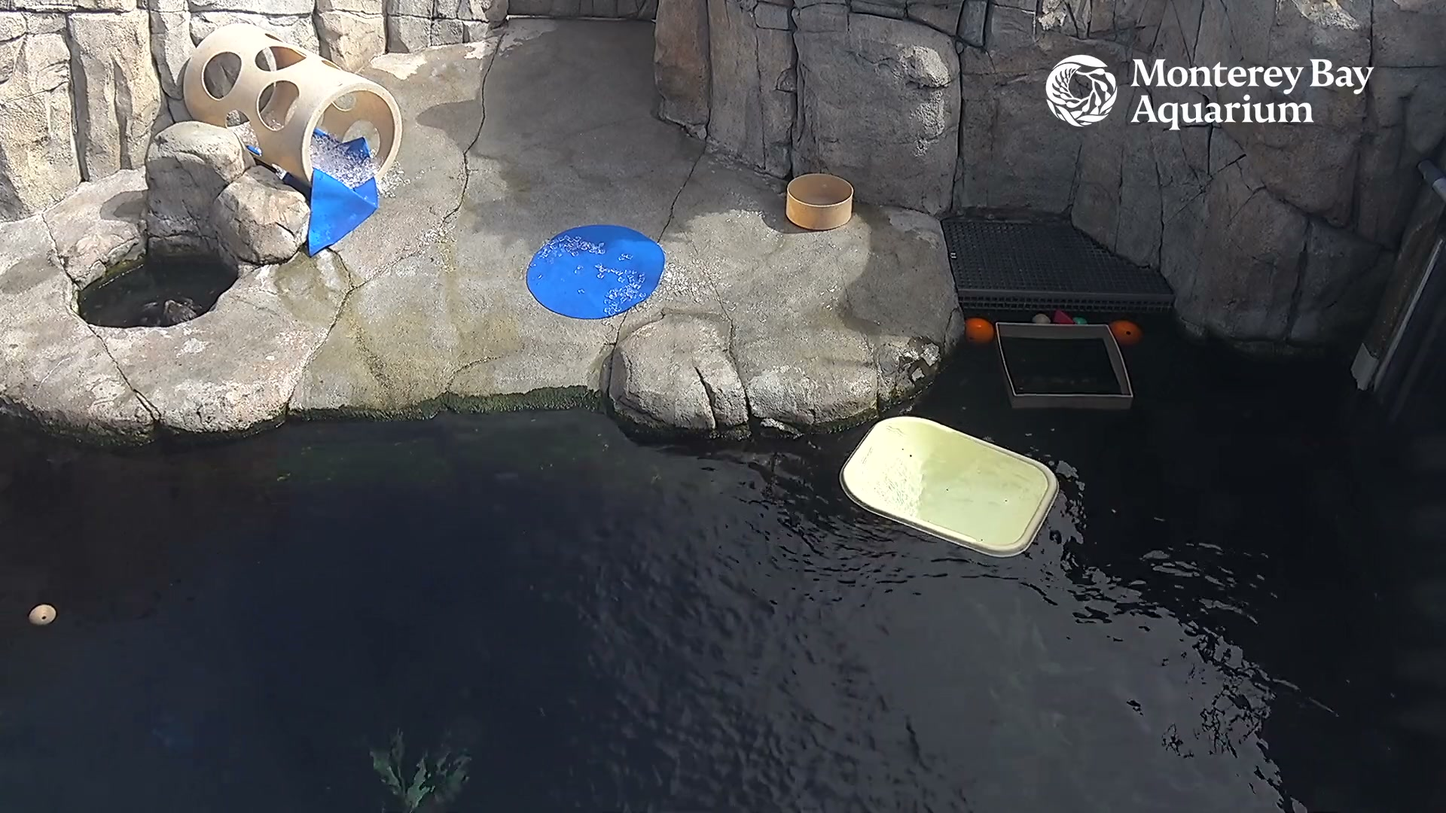Southern Sea Otter: (138, 283, 208, 332)
